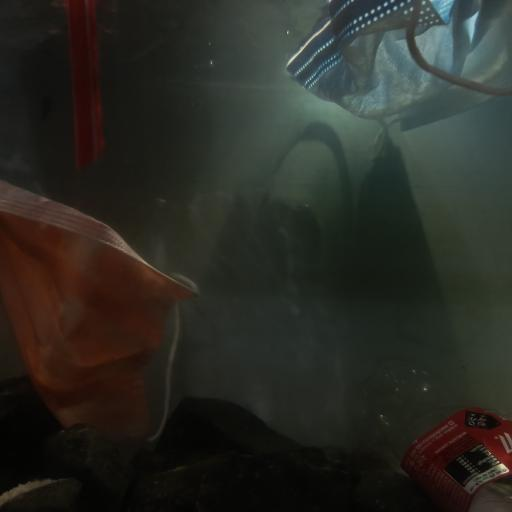mask: (0, 180, 199, 444), (284, 0, 512, 156)
plastic_bottle: (350, 349, 512, 512)
plastic_straw: (65, 0, 109, 172)
